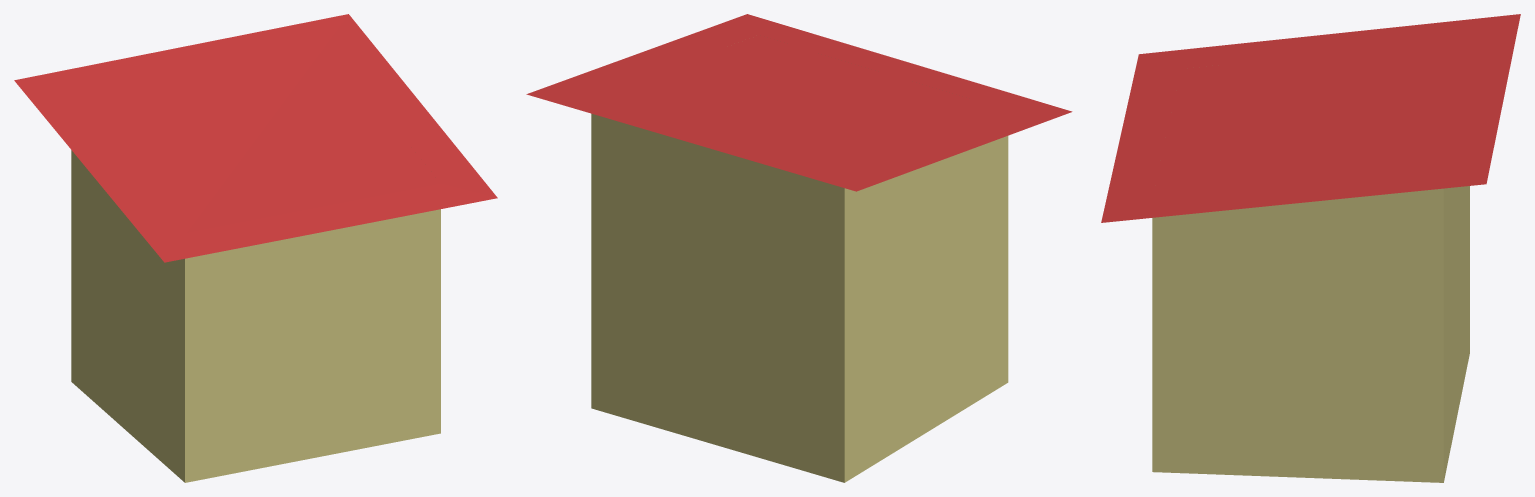
3 renders of one model, left to right at view 1: azimuth 30°, elevation 25°; view 2: azimuth 150°, elevation 25°; view 3: azimuth 270°, elevation 25°, orthographic. The views are drawn at different scales.
Bounding box in the file's own units: 6.92 × 6.71 × 5.65.
